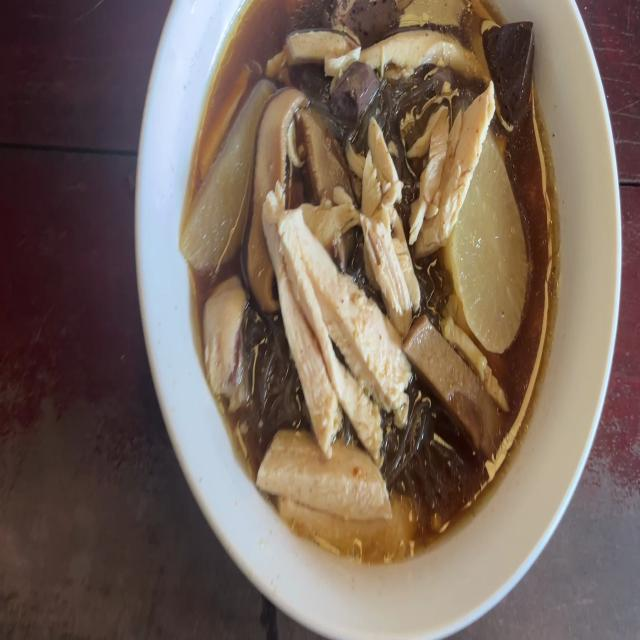noodle: (486, 27, 536, 114), (336, 0, 398, 44), (342, 58, 373, 119)
